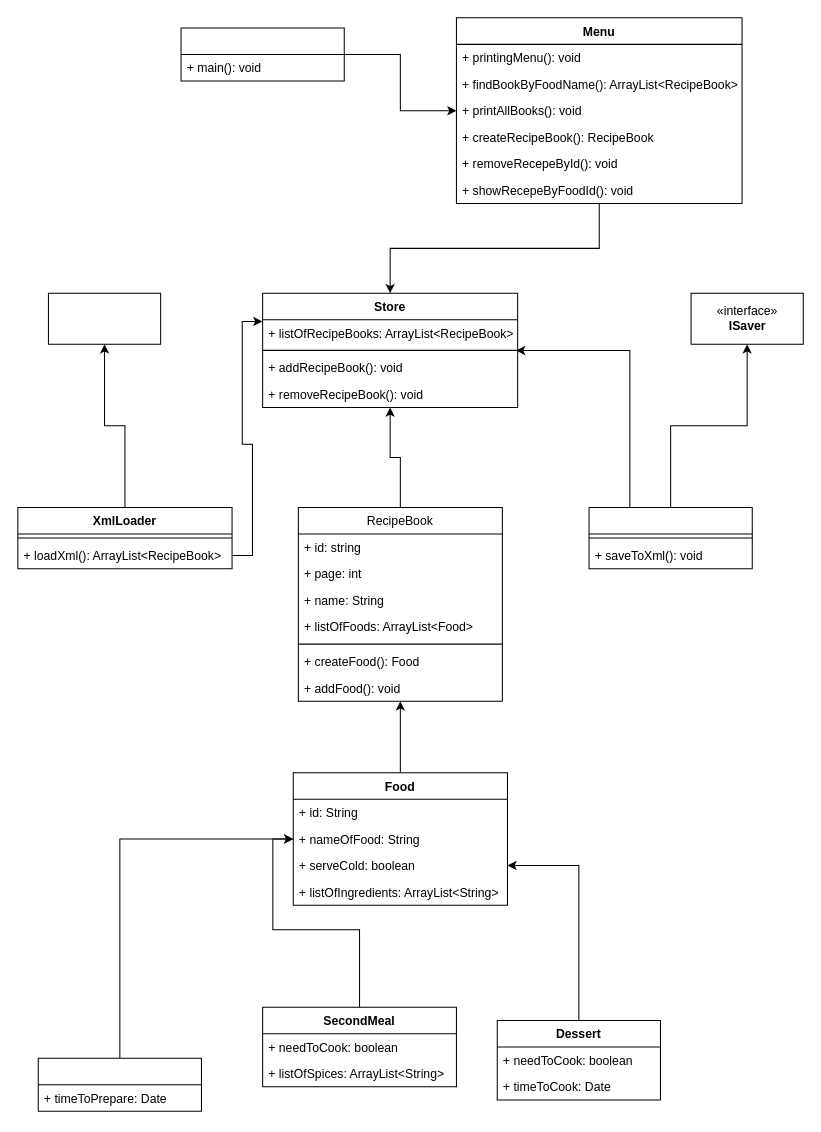
Image size: 821x1132. Some labels were removed from this diagram. Here are the shapes that lost their labels. From the top down, the box of each, then its label:
(180, 27, 344, 81): Program
(47, 292, 161, 344): «interface» ILoader
(588, 506, 752, 569): XmlSaver
(37, 1057, 201, 1111): Appetizer
